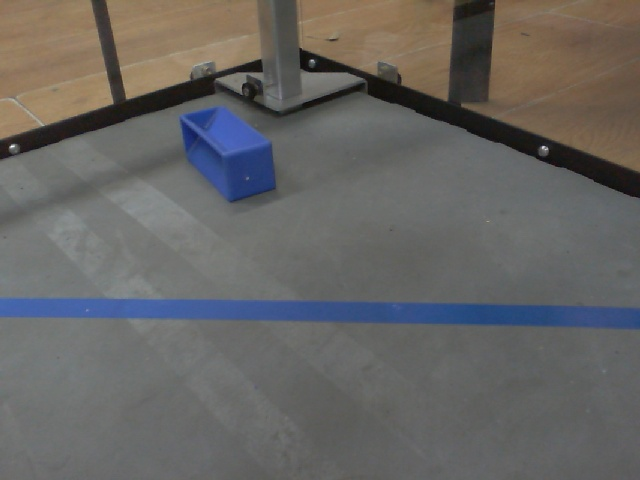BlueSample: (178, 104, 277, 204)
